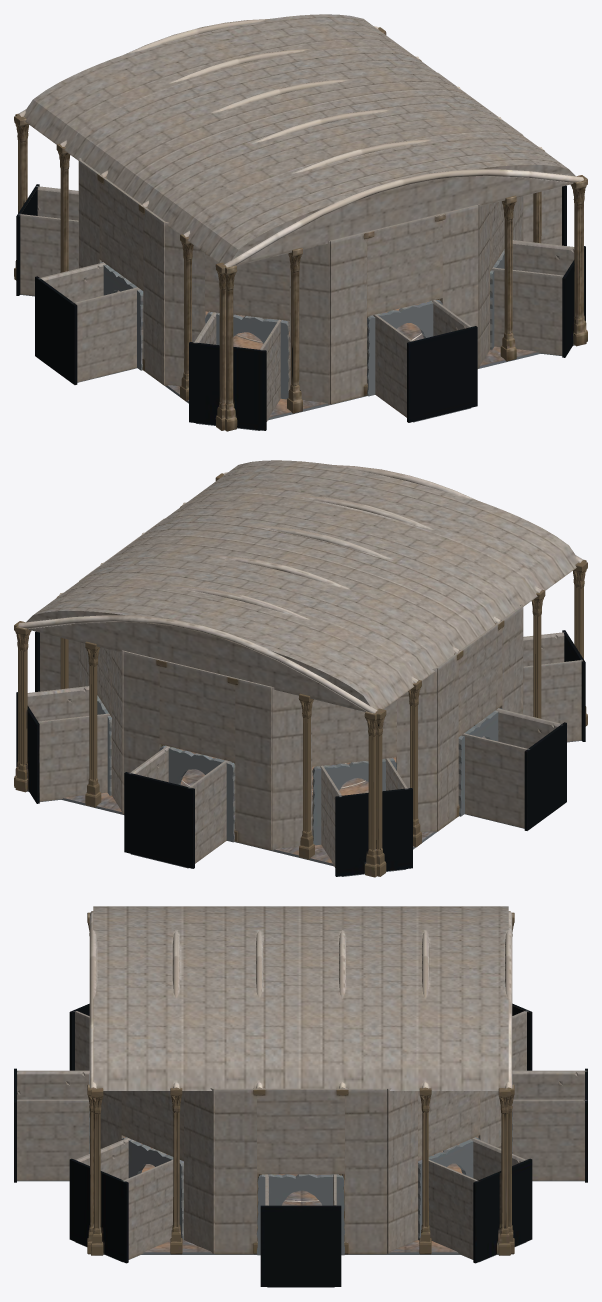
Rendered from room.glb.
The picture shows the model from 3 angles, top to bottom: view 1: azimuth 30°, elevation 25°; view 2: azimuth 150°, elevation 25°; view 3: azimuth 270°, elevation 25°; orthographic projection.
Parts seen in each view (by area): view 1: CAROUSEL-ROOM; view 2: CAROUSEL-ROOM; view 3: CAROUSEL-ROOM.
Boxes of the visible parts, box(x1,y1,x2,y2) form: CAROUSEL-ROOM: box(14, 14, 587, 431); CAROUSEL-ROOM: box(14, 460, 587, 877); CAROUSEL-ROOM: box(14, 906, 587, 1287).
Size of the model in its own units: 22.12 by 8.95 by 22.12.
Materials: 1 (1 with a texture image).
